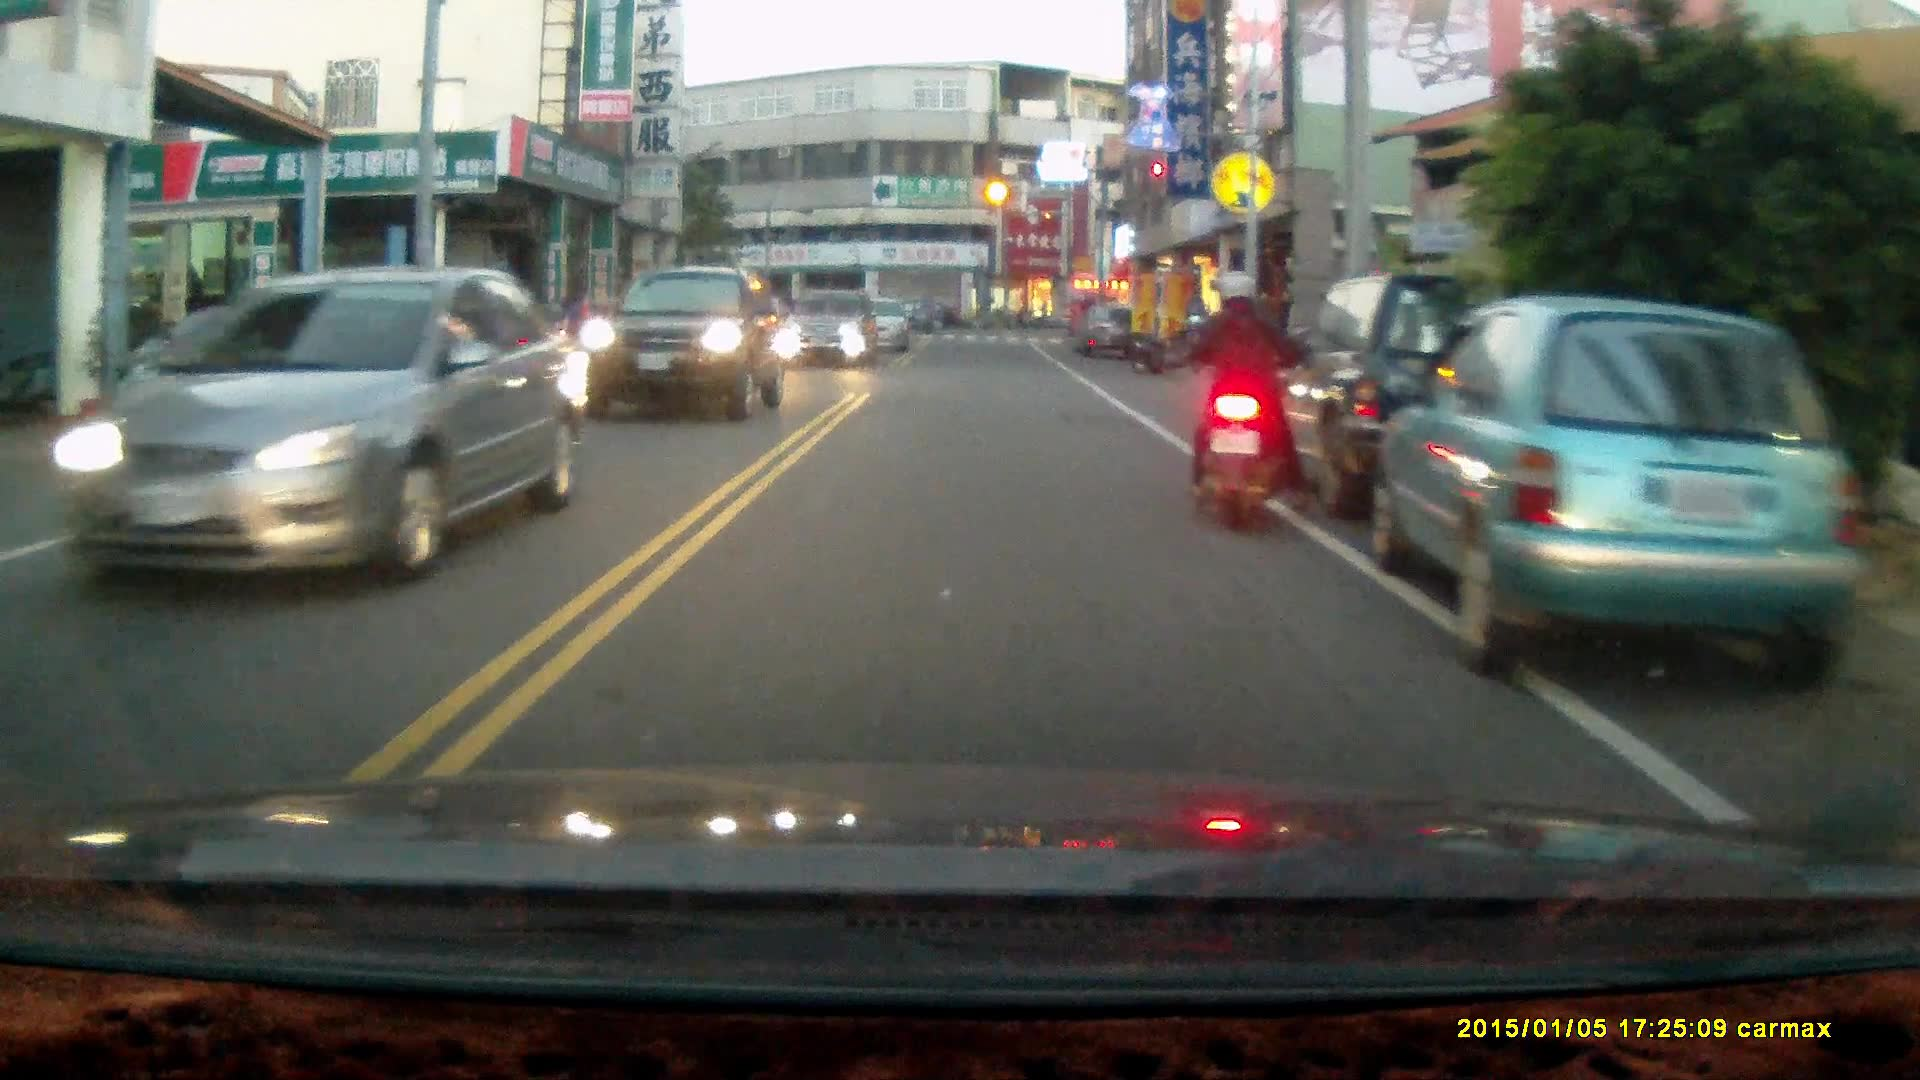rider: (1180, 265, 1307, 533)
vehicle: (1362, 293, 1867, 686), (45, 270, 592, 592), (1232, 269, 1603, 520), (580, 263, 778, 417), (776, 286, 882, 368), (1070, 300, 1140, 358)
